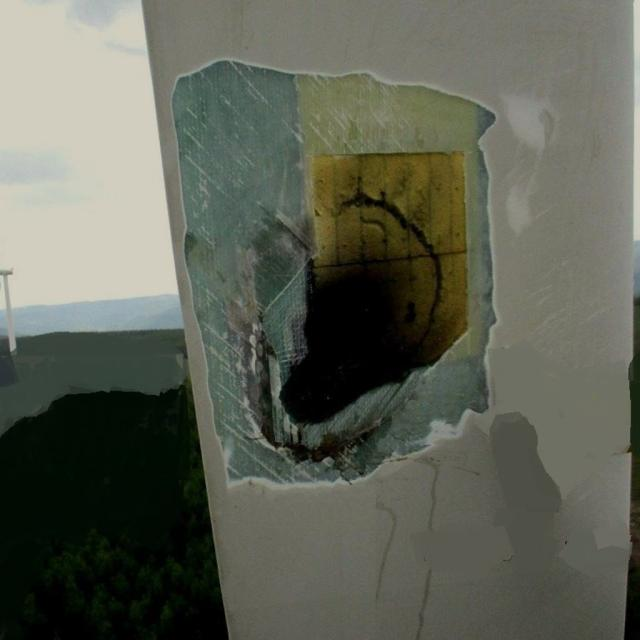crack: (268, 198, 486, 436)
surface_peeling: (160, 54, 511, 158), (172, 167, 260, 500)
